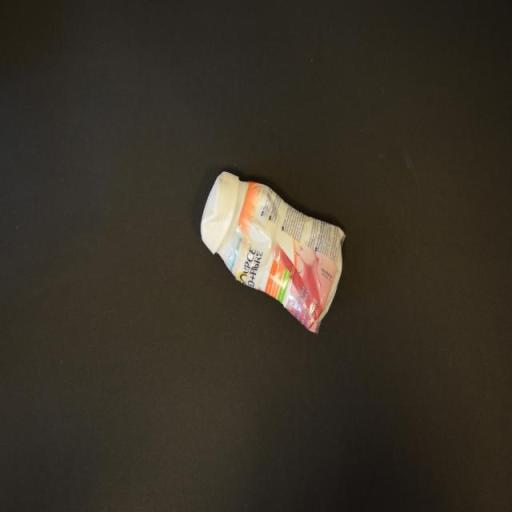plastic: (201, 175, 347, 334)
